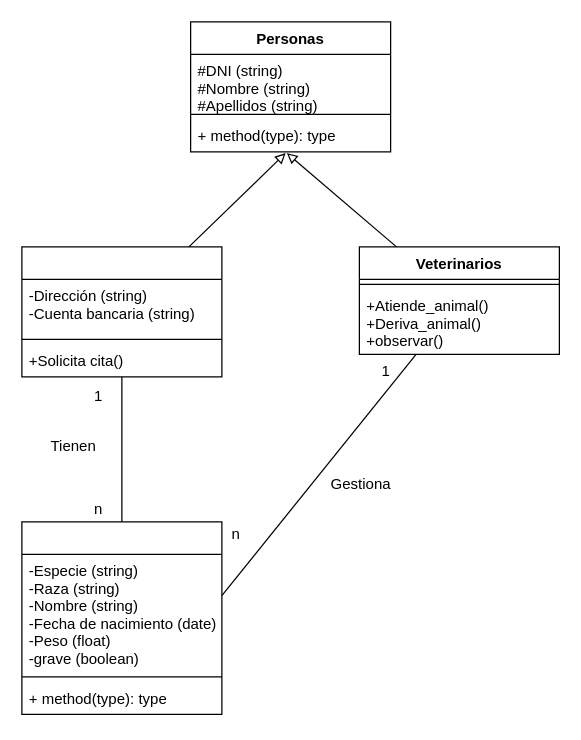
Image size: 581x740. Some labels were removed from this diagram. The shapes that lost their labels are listed below. From the top down, each one's box as (x1, y1, x2, y2) in pixels, then its label:
(21, 246, 222, 377): Clientes
(21, 521, 222, 714): Mascotas
